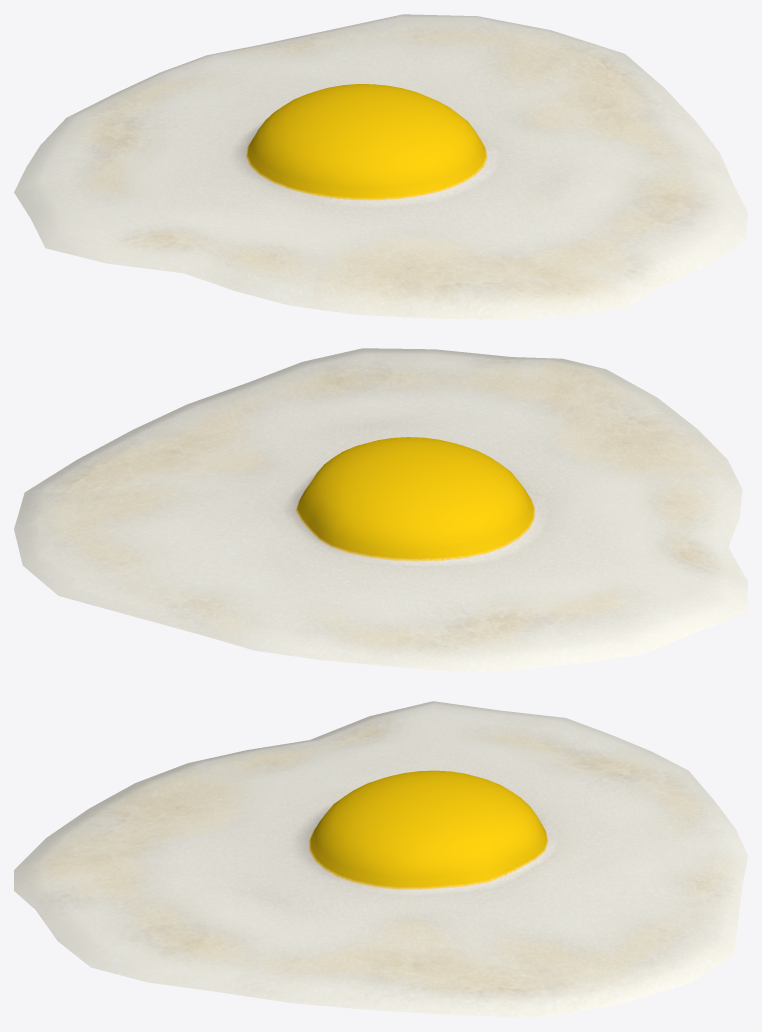
Rendered from Egg_Cracked_12.obj.
3 views of the same model, one above another, from view 1: azimuth 30°, elevation 25°; view 2: azimuth 150°, elevation 25°; view 3: azimuth 270°, elevation 25° (orthographic). The views are drawn at different scales.
Visible parts, largest first — view 1: fried_egg_11; view 2: fried_egg_11; view 3: fried_egg_11.
Part boxes in pixels (bbox=[...]): fried_egg_11: bbox=[14, 14, 747, 319]; fried_egg_11: bbox=[14, 348, 747, 672]; fried_egg_11: bbox=[14, 701, 747, 1017].
Size of the model in its own units: 0.1349 by 0.014 by 0.1321.
